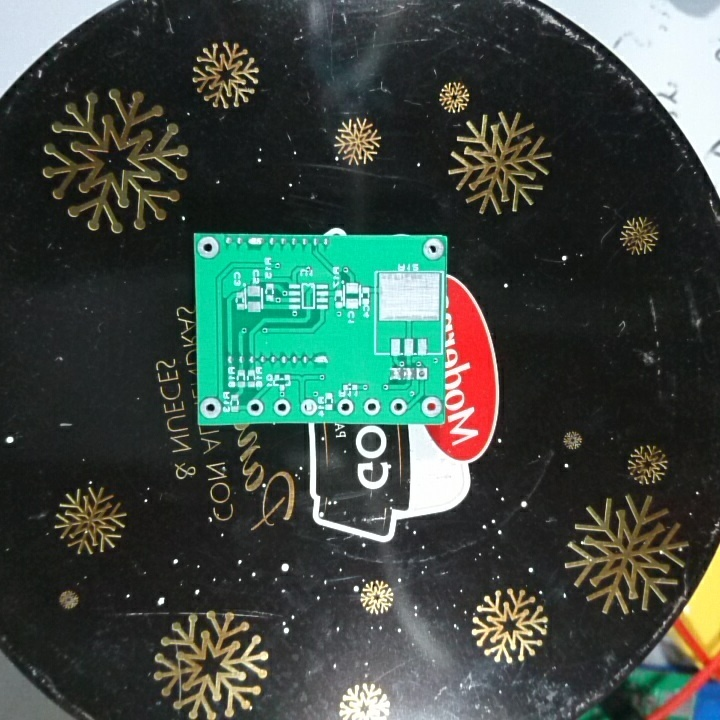F: (193, 235, 221, 262), (199, 392, 224, 421), (420, 237, 446, 261), (419, 395, 443, 419), (271, 396, 293, 418), (360, 395, 382, 417), (334, 397, 357, 418), (299, 396, 319, 420), (246, 398, 267, 420), (389, 397, 410, 418), (414, 364, 430, 383)
P: (244, 235, 267, 252), (310, 353, 330, 369)
